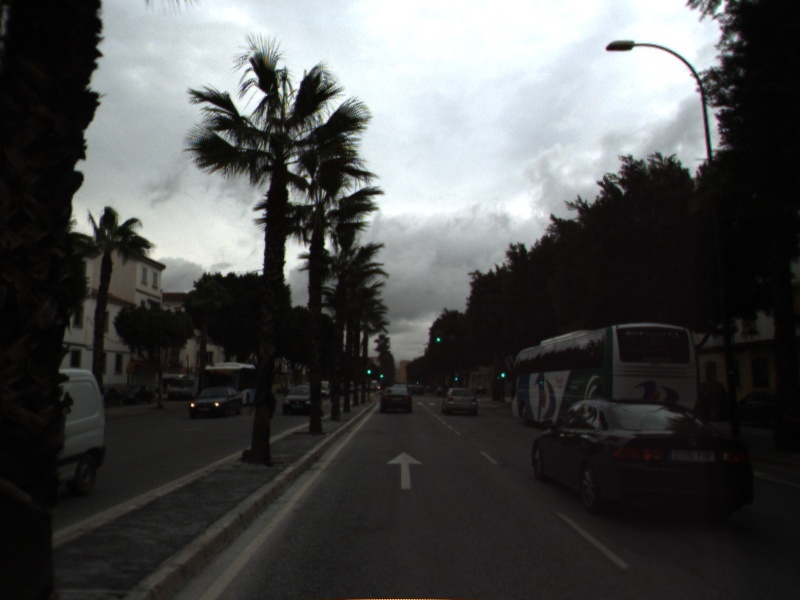STRAIGHT: (385, 449, 425, 492)
